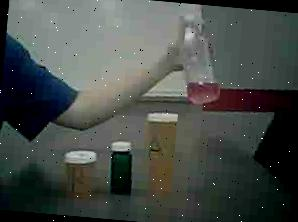Bottle A: (132, 106, 194, 202)
Bottle B: (52, 144, 102, 206)
Bottle C: (103, 138, 139, 202)
hazard: (165, 2, 246, 106)
